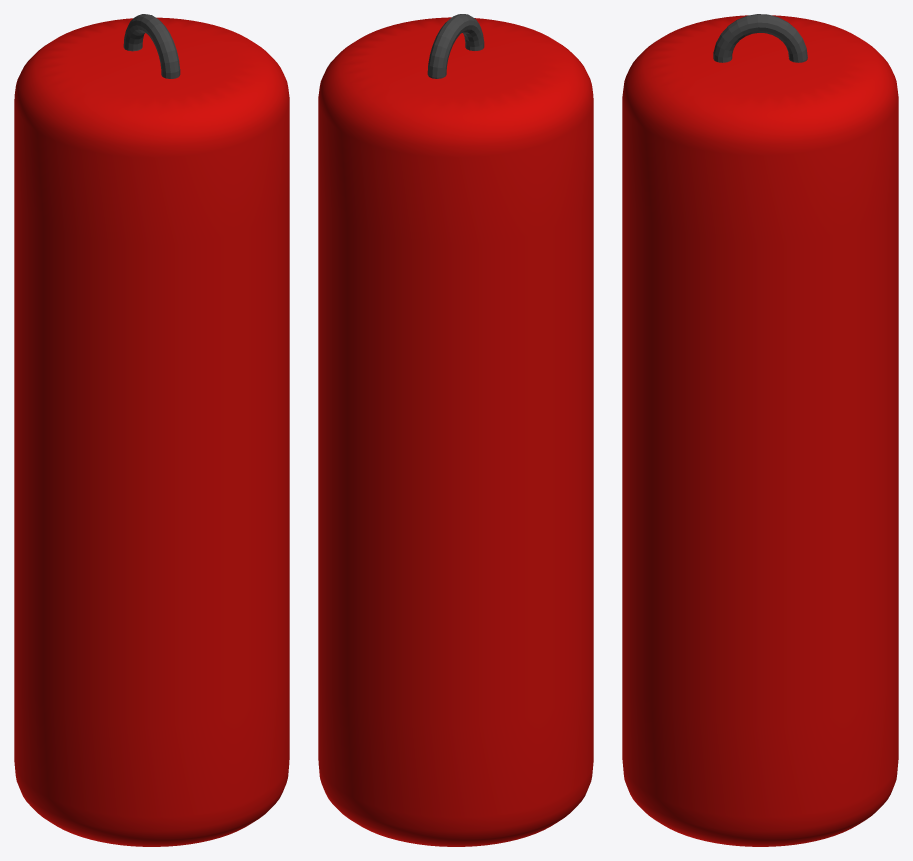
The model's file is frpnchbg.dae.
The picture shows the model from 3 angles, left to right: view 1: azimuth 30°, elevation 25°; view 2: azimuth 150°, elevation 25°; view 3: azimuth 270°, elevation 25°; orthographic projection.
Visible parts, largest first — view 1: Cylinder, Torus_010; view 2: Cylinder, Torus_010; view 3: Cylinder, Torus_010.
Boxes of the visible parts, x1,y1,x2,y2 form: Cylinder: [14, 17, 289, 846]; Torus_010: [123, 14, 180, 78]; Cylinder: [318, 17, 593, 846]; Torus_010: [427, 14, 484, 78]; Cylinder: [622, 15, 898, 846]; Torus_010: [713, 14, 807, 62].
Size of the model in its own units: 2.09 by 2.09 by 6.6.
